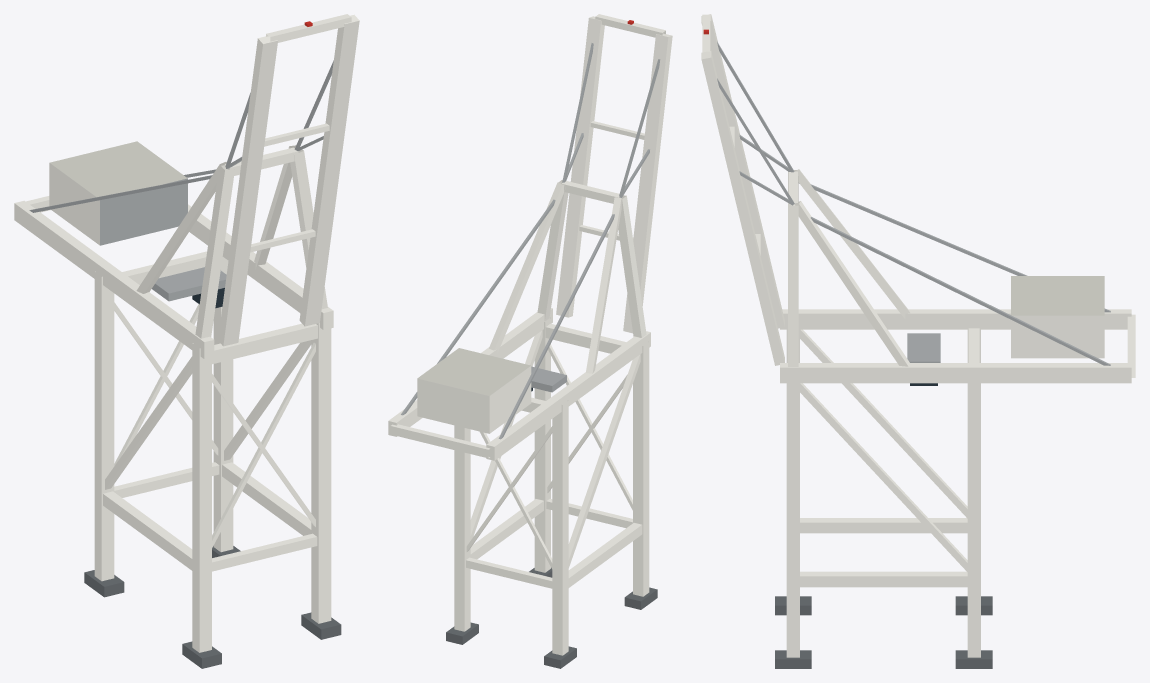
File: sf_container_crane.glb
3 views of the same model, side by side, from view 1: azimuth 30°, elevation 25°; view 2: azimuth 150°, elevation 25°; view 3: azimuth 270°, elevation 25° (orthographic). The views are drawn at different scales.
Visible parts, largest first — view 1: sf_container_crane; view 2: sf_container_crane; view 3: sf_container_crane.
Boxes of the visible parts, x1=… form: sf_container_crane: x1=14, y1=14, x2=359, y2=668; sf_container_crane: x1=388, y1=14, x2=672, y2=668; sf_container_crane: x1=701, y1=14, x2=1135, y2=668.
Size of the model in its own units: 22.19 by 100 by 64.83.
1 material, 1 textured.
